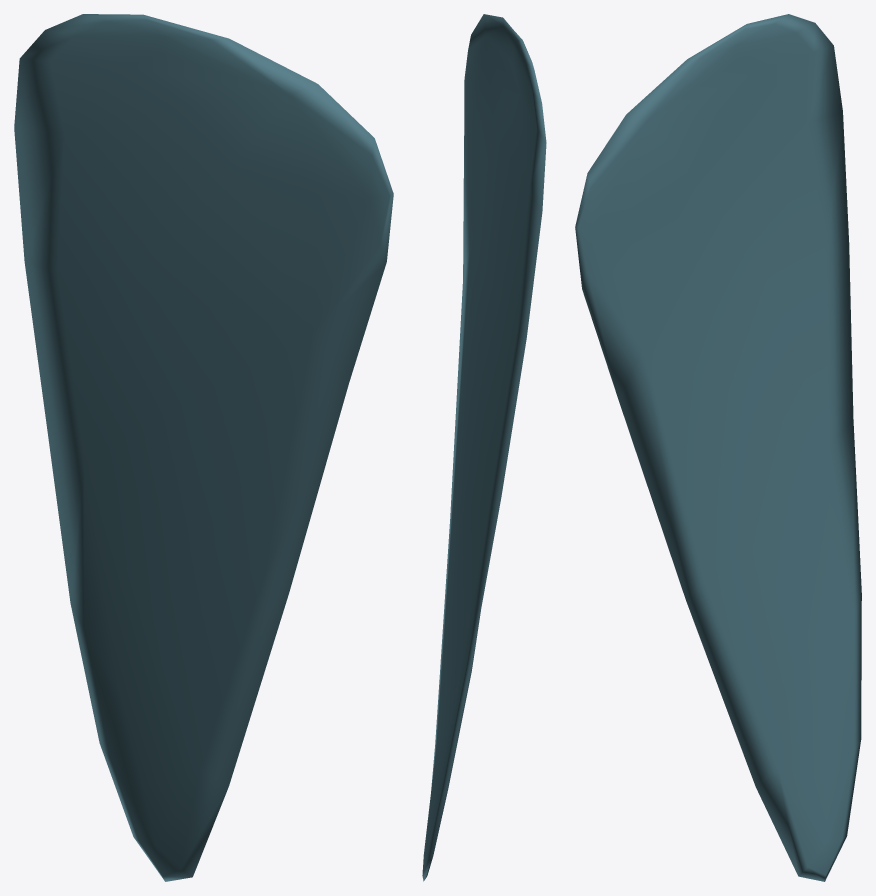
File: Sartorius_on_pes_anserinus.l_Generated_Mesh_From_X3D.792.glb
3 renders of one model, left to right at view 1: azimuth 30°, elevation 25°; view 2: azimuth 150°, elevation 25°; view 3: azimuth 270°, elevation 25°, orthographic. The views are drawn at different scales.
Parts seen in each view (by area): view 1: Sartorius_on_pes_anserinus.l_Generated_Mesh_From_X3D.792; view 2: Sartorius_on_pes_anserinus.l_Generated_Mesh_From_X3D.792; view 3: Sartorius_on_pes_anserinus.l_Generated_Mesh_From_X3D.792.
Part boxes in pixels (x1,y1,x2,y2): Sartorius_on_pes_anserinus.l_Generated_Mesh_From_X3D.792: (14, 14, 393, 881); Sartorius_on_pes_anserinus.l_Generated_Mesh_From_X3D.792: (422, 14, 546, 881); Sartorius_on_pes_anserinus.l_Generated_Mesh_From_X3D.792: (575, 14, 861, 881).
Size of the model in its own units: 0.0123 by 0.0462 by 0.0145.
